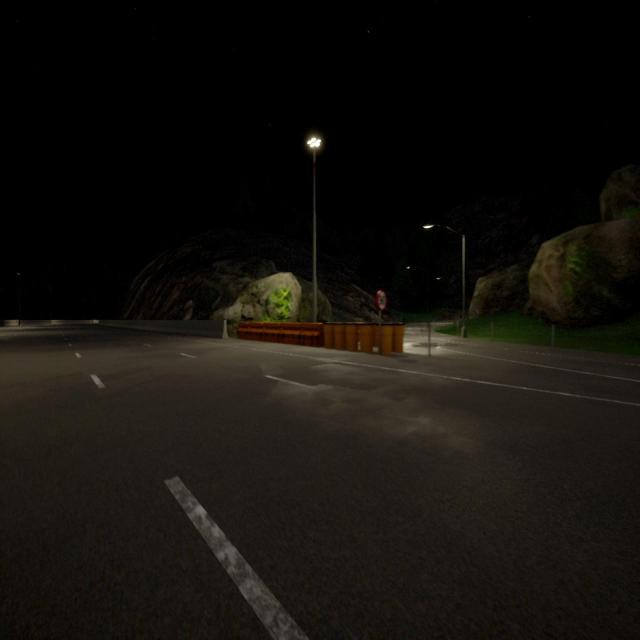Traffic_Signs: (376, 290, 388, 310)
